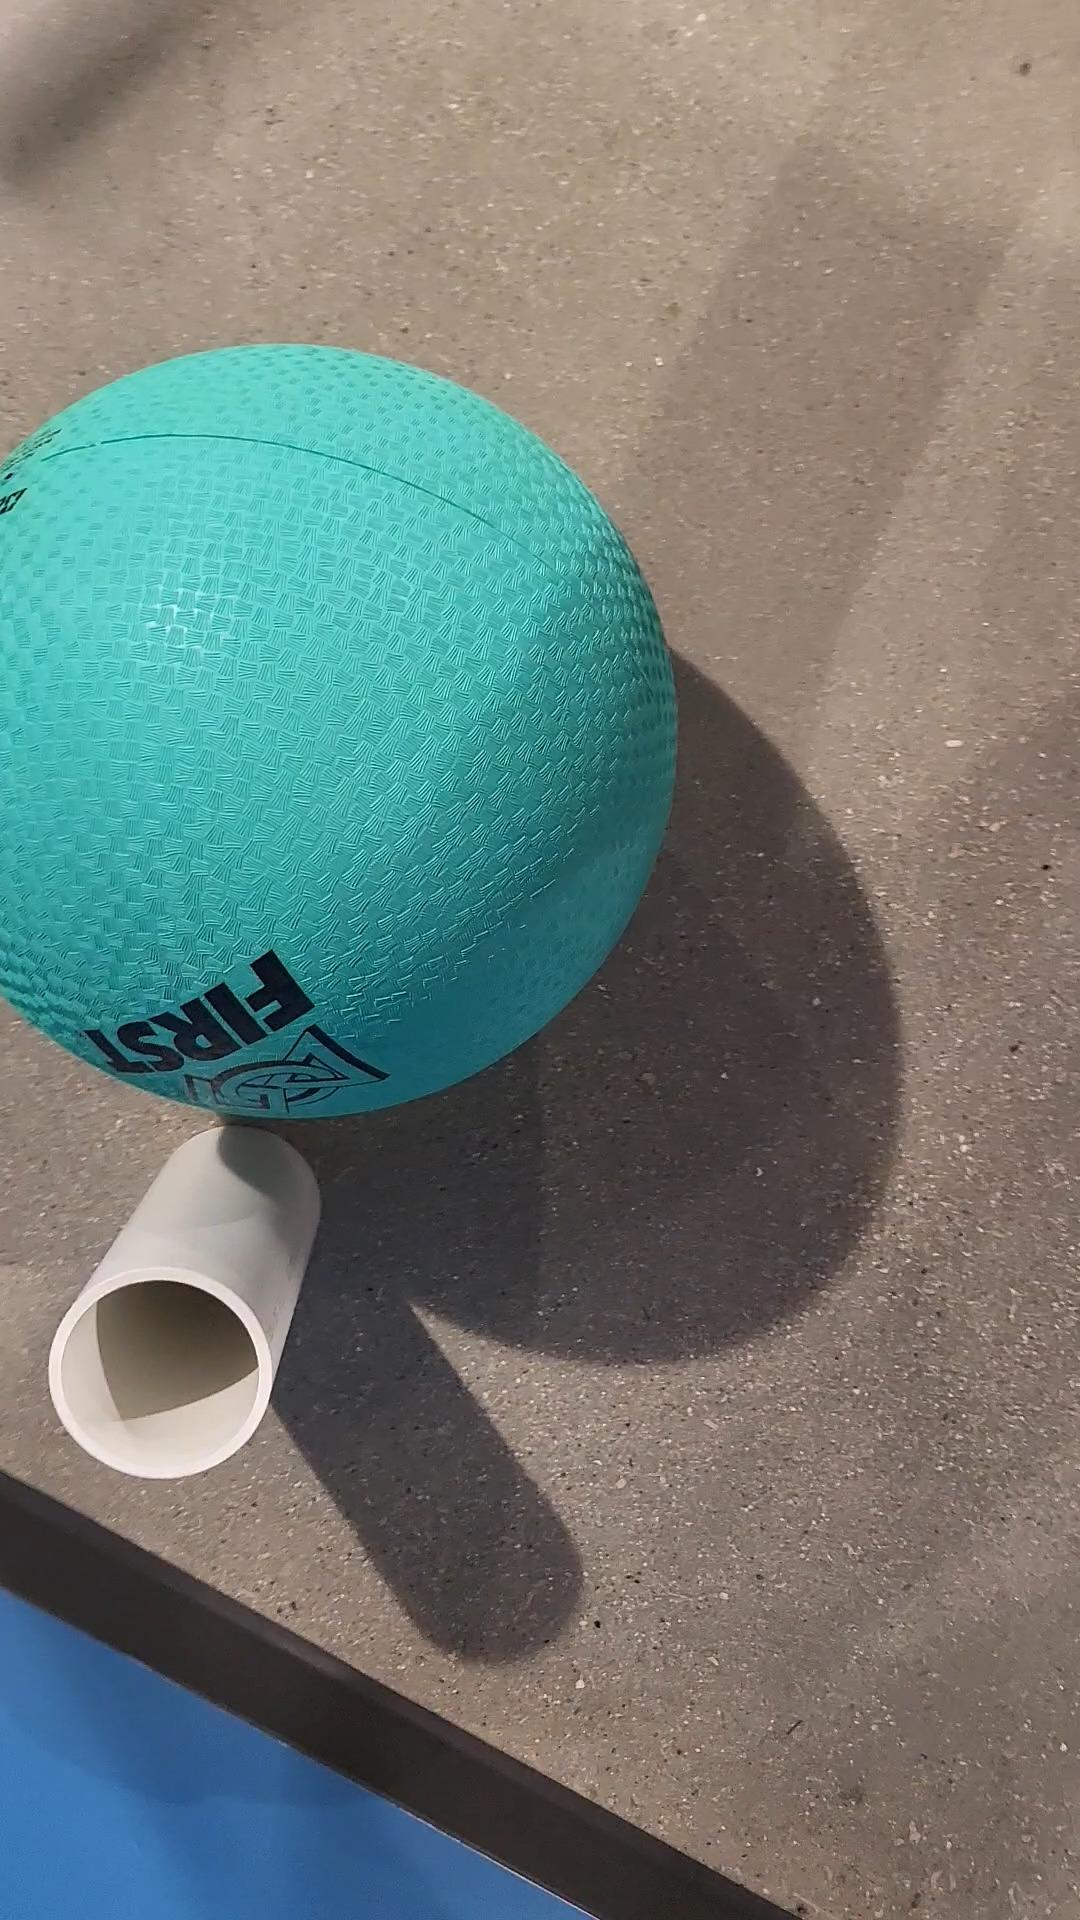algae: (0, 324, 690, 1124)
coral: (50, 1108, 327, 1486)
